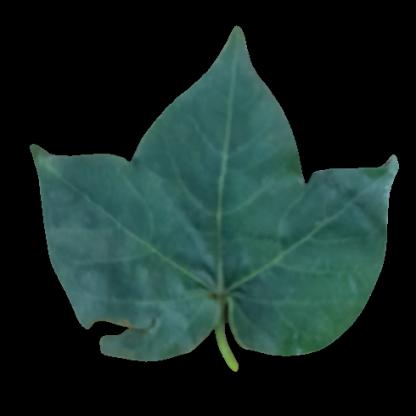healthy: (169, 119, 287, 310), (55, 177, 164, 269), (288, 209, 372, 304)
